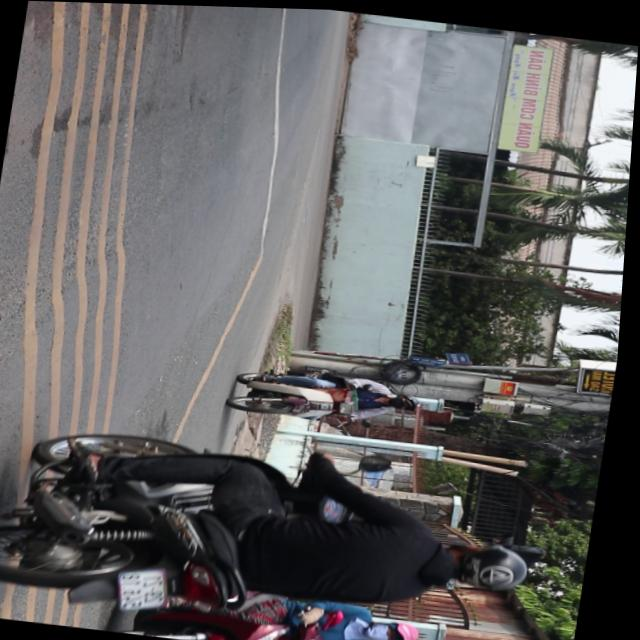helmet: (441, 536, 540, 595), (374, 615, 428, 640), (393, 392, 426, 411)
licenseplate: (0, 413, 554, 640), (107, 574, 434, 640), (229, 359, 432, 435)
nohelmet: (123, 565, 175, 614)
